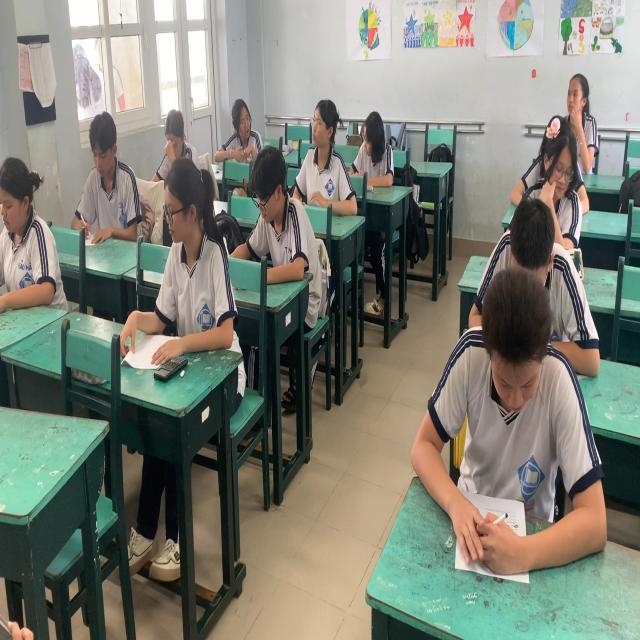cheating: (355, 102, 388, 202), (223, 88, 256, 160)
not_cheating: (447, 281, 607, 550), (159, 159, 230, 374), (496, 190, 592, 330), (0, 142, 60, 312), (245, 145, 311, 297), (80, 103, 138, 244), (297, 97, 352, 224), (535, 124, 588, 229), (564, 67, 607, 161), (158, 98, 194, 175)
